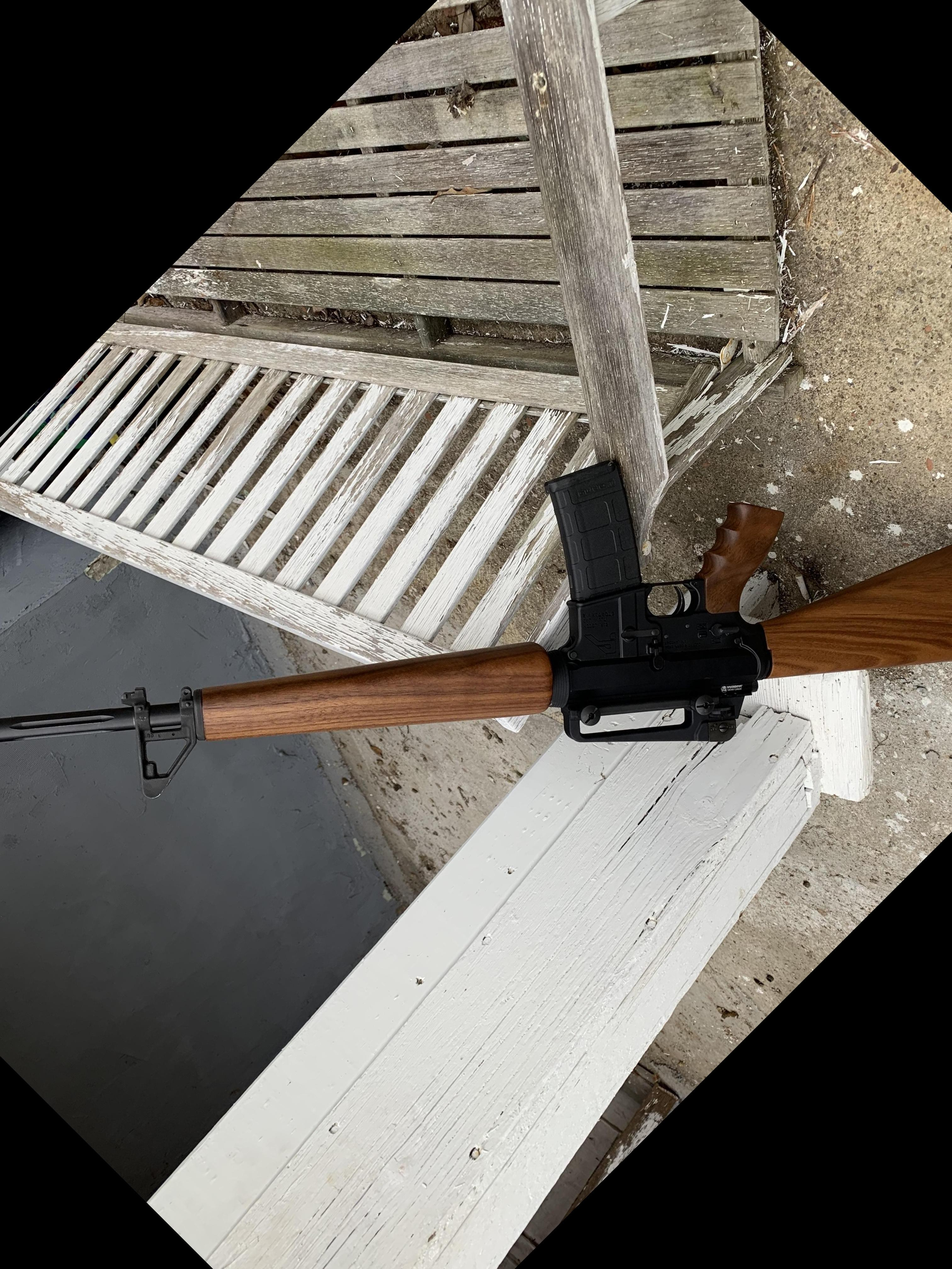larga: (0, 457, 952, 805)
